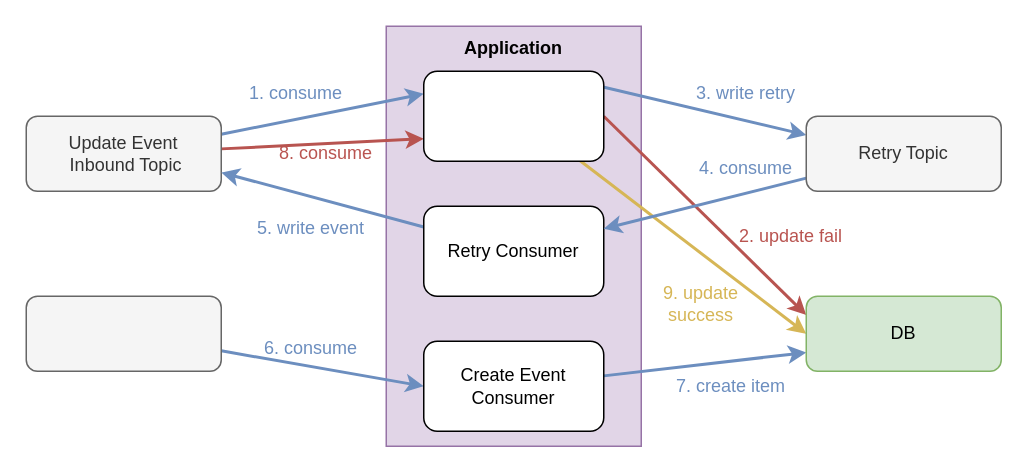
Image size: 1028x473. Some labels were removed from this diagram. Here are the shapes that lost their labels. From the top down, the box of each, then its label:
(422, 70, 604, 161): Update Event Consumer
(25, 295, 221, 371): Create Event Inbound Topic
